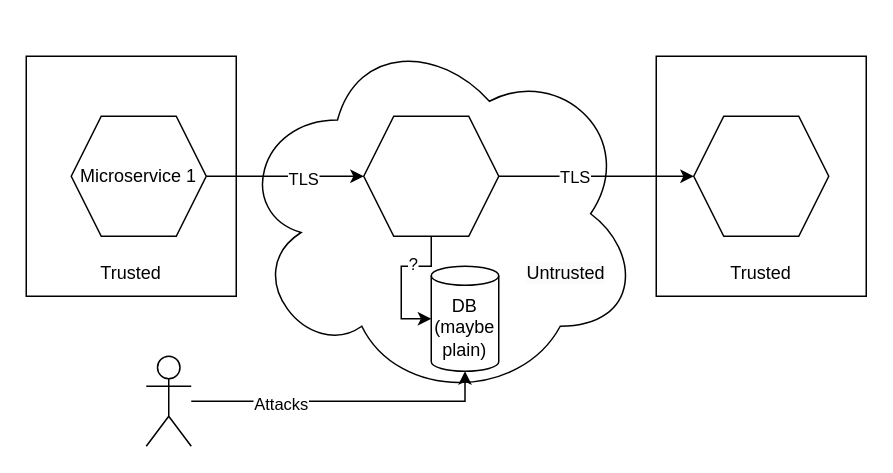
This 893x473 diagram has some shape labels left out. The box of each missing label's shape, as (x1, y1, x2, y2) in pixels:
Messenging Service: (362, 115, 499, 236)
Microservice 2: (692, 115, 829, 236)
